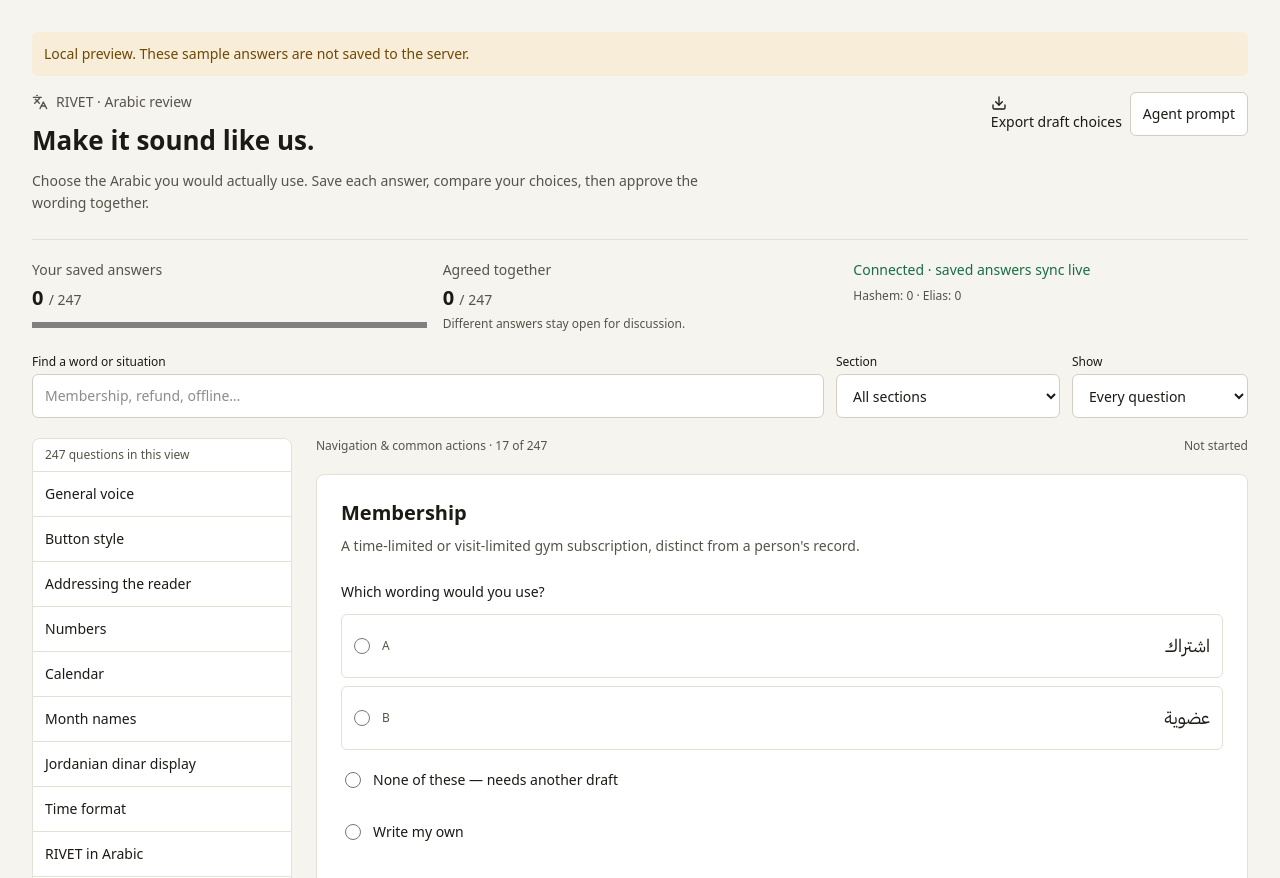
Test: Arabic review interaction › keeps a failed save editable and never claims it saved
Click the radio button labelled "A اشتراك".
click(362, 646)  # box [354,638,370,654]
(page scrolled)
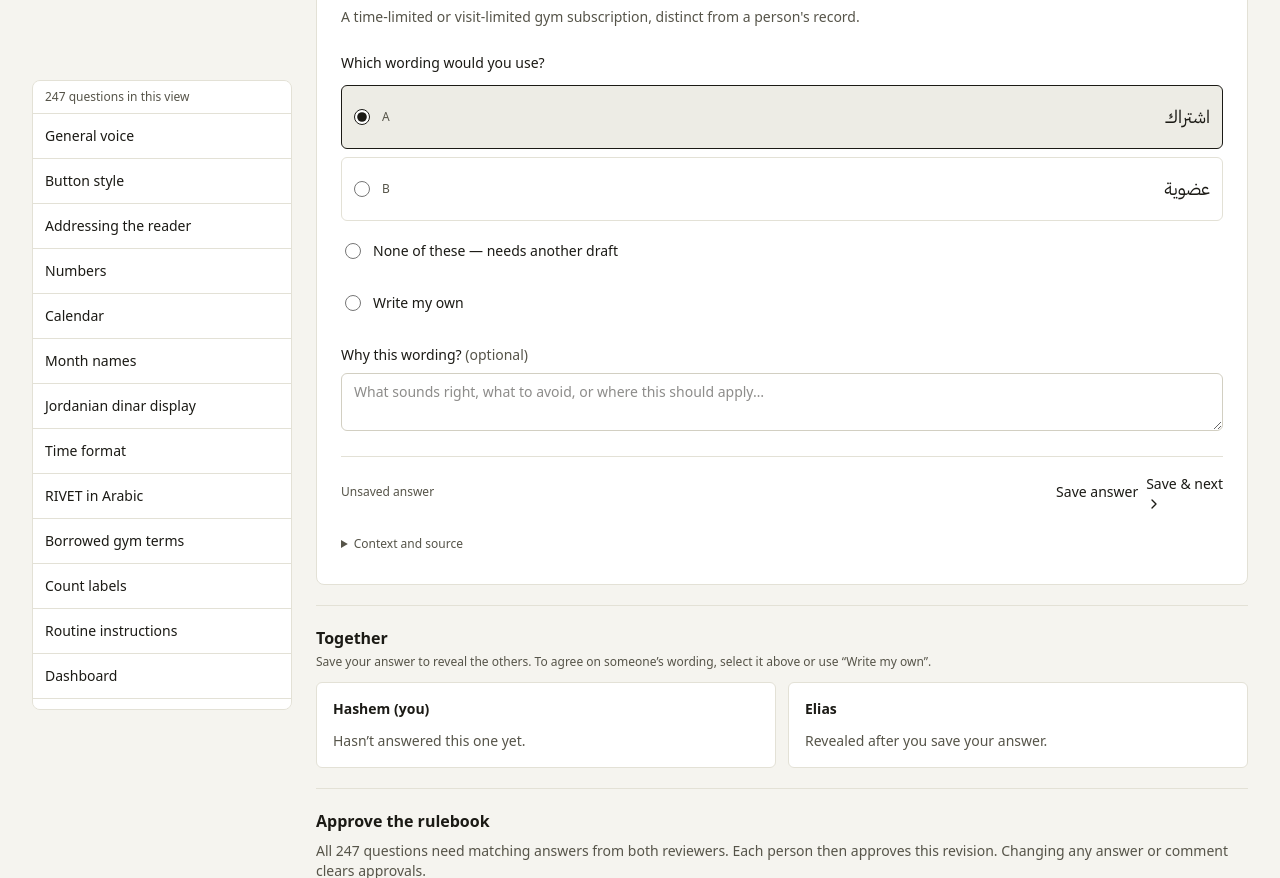
Click the button "Save answer".
click(1097, 492)  # box [1056,473,1138,512]
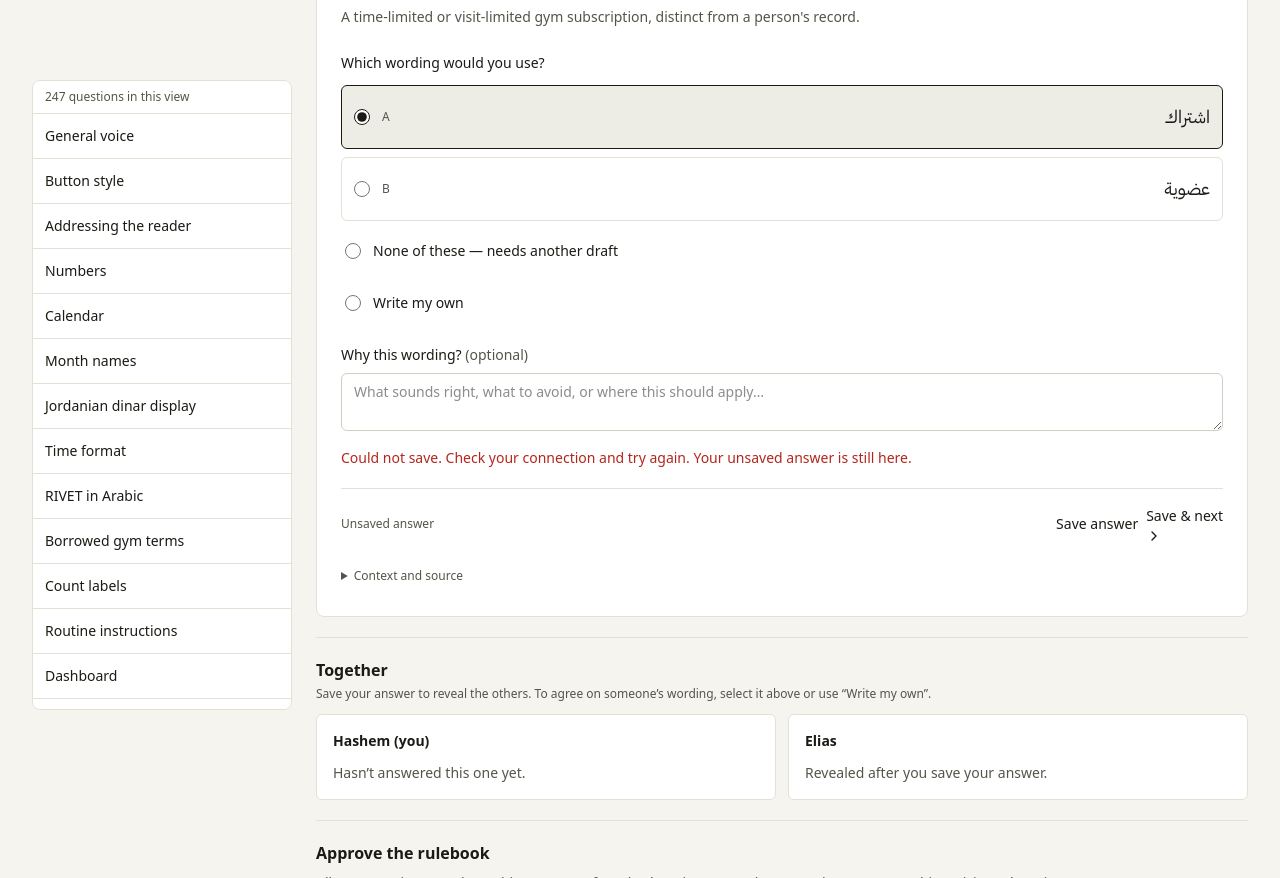
Expected: the radio button labelled "A اشتراك" is checked, [354,109,370,125]
Expected: the text "Unsaved answer" is shown, [341,516,434,532]
Expected: the 1st message is shown, [341,448,912,467]
